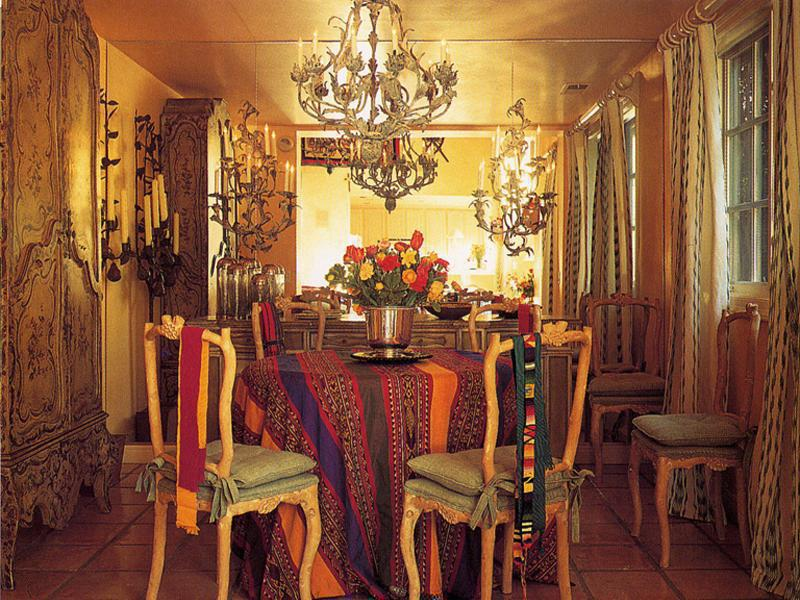Ventana: (710, 42, 776, 310)
